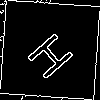H: (25, 25, 83, 82)
